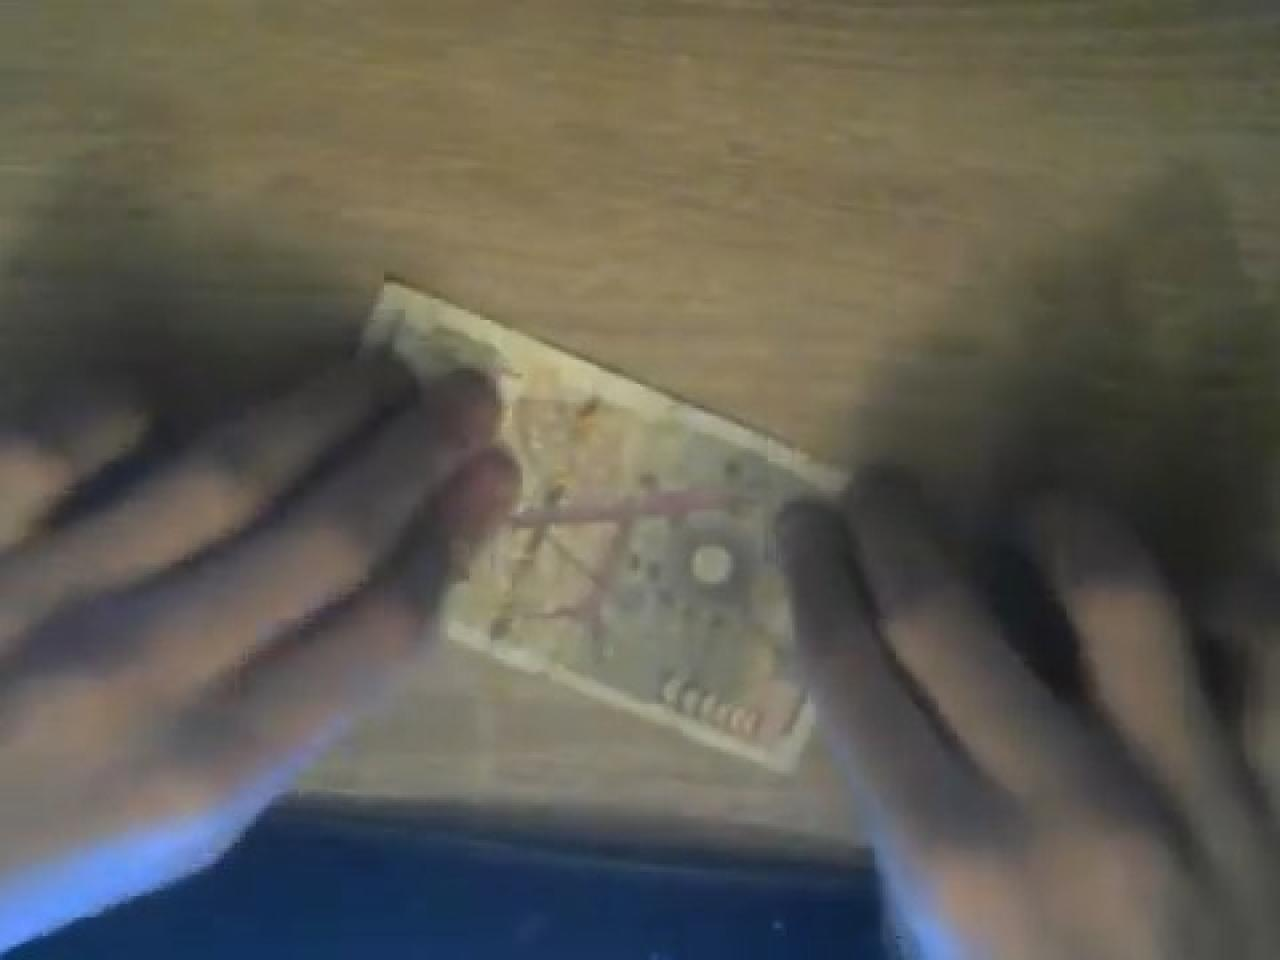10leva: (365, 277, 846, 773)
